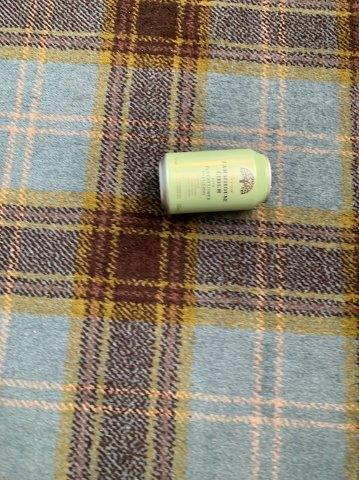kaleng: (159, 150, 270, 213)
